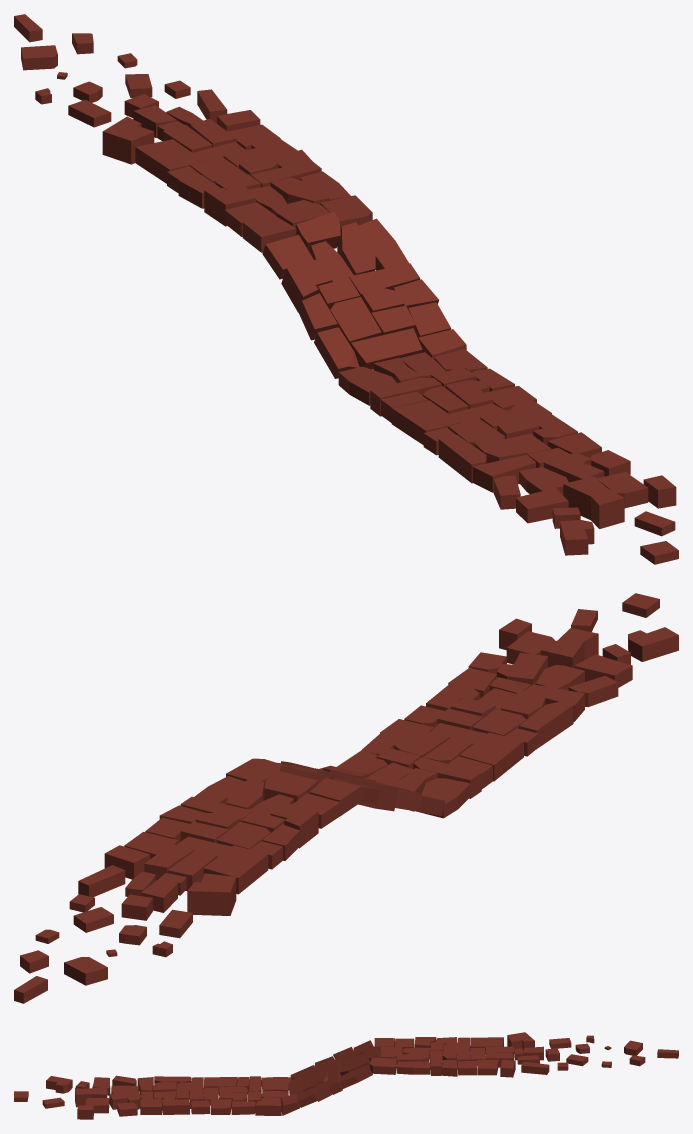
Rendered from ruins_road_002.fbx.
3 renders of one model, top to bottom at view 1: azimuth 30°, elevation 25°; view 2: azimuth 150°, elevation 25°; view 3: azimuth 270°, elevation 25°, orthographic. The views are drawn at different scales.
Parts seen in each view (by area): view 1: ruins_road_002; view 2: ruins_road_002; view 3: ruins_road_002.
Part boxes in pixels (bbox=[...]): ruins_road_002: bbox=[14, 14, 678, 564]; ruins_road_002: bbox=[14, 593, 678, 1003]; ruins_road_002: bbox=[14, 1032, 678, 1119].
Bounding box in the file's own units: 477 × 3527 × 304.
